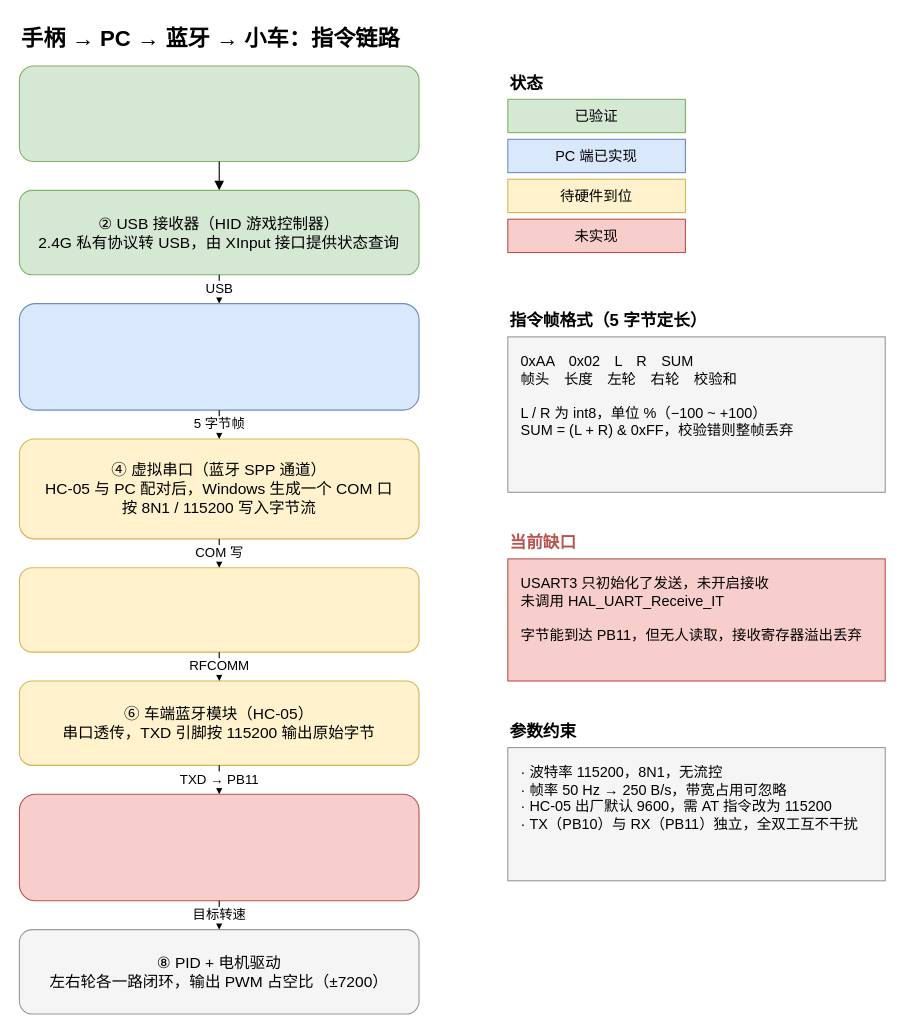
This 905x1033 diagram has some shape labels left out. Here are the shapes that lost their labels. From the top down, the centre of each, then its label:
At [218,113]: "① 手柄（2.4G，XInput 协议） 左摇杆 X → 转向 RT → 前进 LT → 后退".
At [218,356]: "③ PC 端程序 读摇杆量 → 死区处理 → 差速混控 输出左右轮速度指令（−100 ~ +100 %）并组帧".
At [218,609]: "⑤ 蓝牙 RFCOMM 无线链路 替代物理连线，单程延迟约 30 ~ 60 ms".
At [218,847]: "⑦ STM32 接收与解析 USART3_RX（PB11）中断接收 → 帧同步 → 校验 解出左右目标转速；300 ms 无帧则归零".
